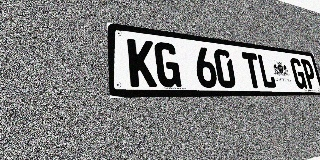0: (213, 48, 236, 88)
6: (193, 46, 218, 88)
G: (154, 41, 182, 87), (289, 58, 308, 89)
K: (127, 38, 157, 87)
L: (256, 54, 277, 88)
P: (300, 59, 318, 89)
T: (241, 52, 263, 88)
